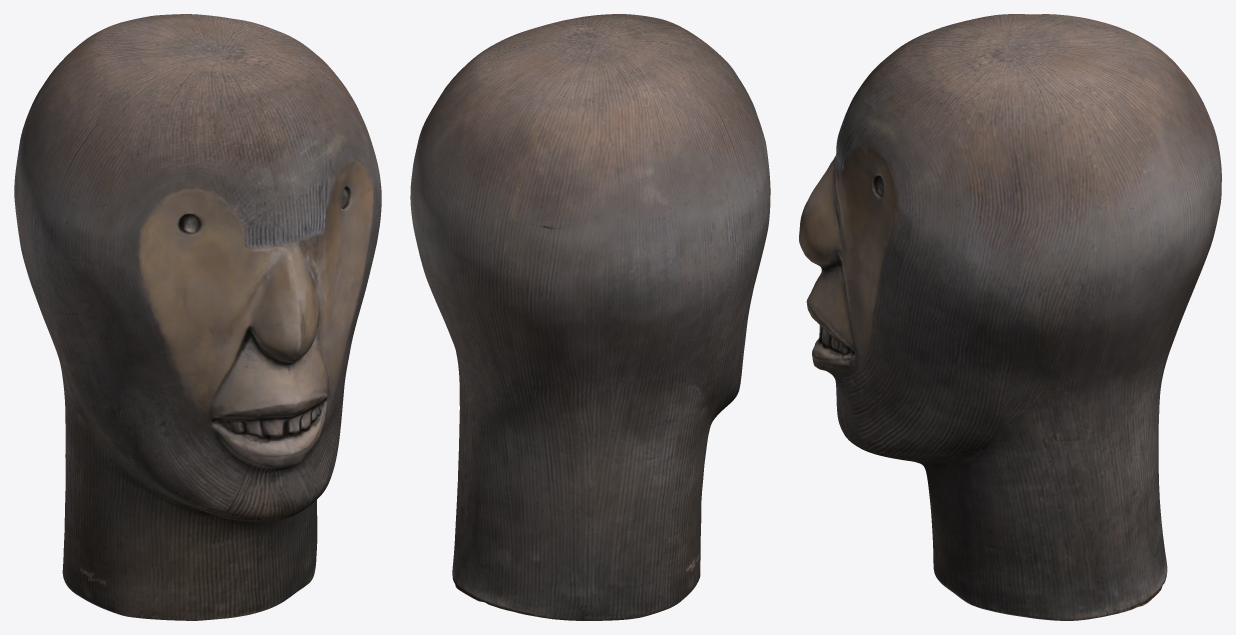
The model's file is head-a.glb.
3 renders of one model, left to right at view 1: azimuth 30°, elevation 25°; view 2: azimuth 150°, elevation 25°; view 3: azimuth 270°, elevation 25°, orthographic. The views are drawn at different scales.
Parts seen in each view (by area): view 1: Low; view 2: Low; view 3: Low.
Boxes of the visible parts, x1,y1,x2,y2 form: Low: (14, 14, 381, 620); Low: (410, 14, 770, 620); Low: (799, 14, 1221, 620).
Size of the model in its own units: 17.37 by 27.91 by 20.44.
Materials: 1 (1 with a texture image).
